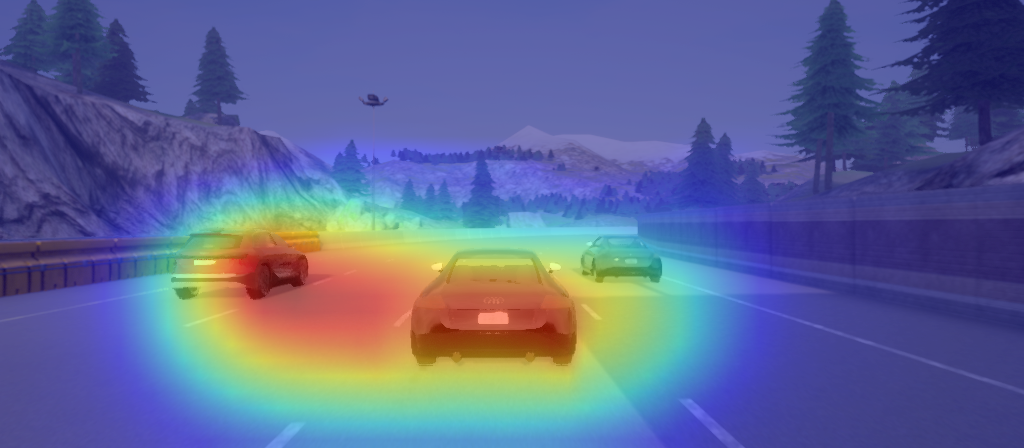Barrier: (678, 204, 1016, 274), (6, 239, 160, 282)
Car: (407, 245, 580, 372), (166, 224, 312, 309), (574, 232, 668, 291)
Lane Marker: (670, 387, 747, 448), (183, 304, 239, 332), (259, 418, 307, 448), (576, 296, 604, 328), (393, 307, 412, 331), (312, 268, 333, 288)
Light Pole: (355, 83, 393, 232)
